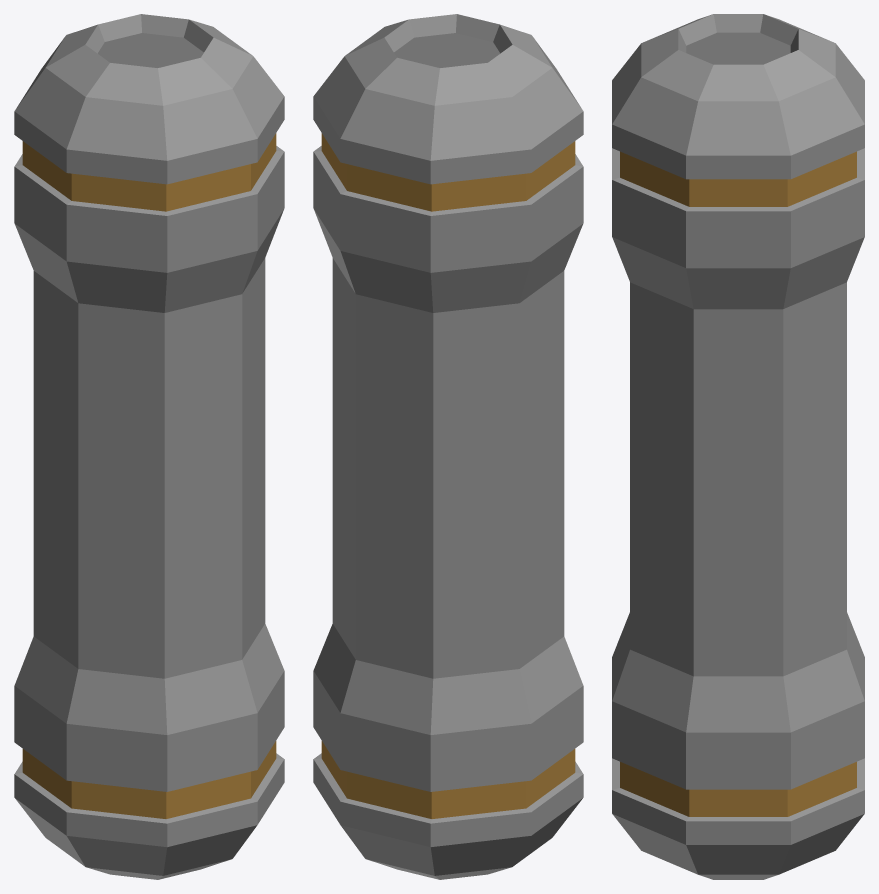
The model's file is Props_Vessel_Tall.glb.
3 renders of one model, left to right at view 1: azimuth 30°, elevation 25°; view 2: azimuth 150°, elevation 25°; view 3: azimuth 270°, elevation 25°, orthographic.
Visible parts, largest first — view 1: Props_Vessel_Tall; view 2: Props_Vessel_Tall; view 3: Props_Vessel_Tall.
Boxes of the visible parts, x1,y1,x2,y2 form: Props_Vessel_Tall: [14, 14, 284, 879]; Props_Vessel_Tall: [313, 14, 583, 879]; Props_Vessel_Tall: [612, 14, 864, 879].
Size of the model in its own units: 0.2873 by 1.02 by 0.2873.
